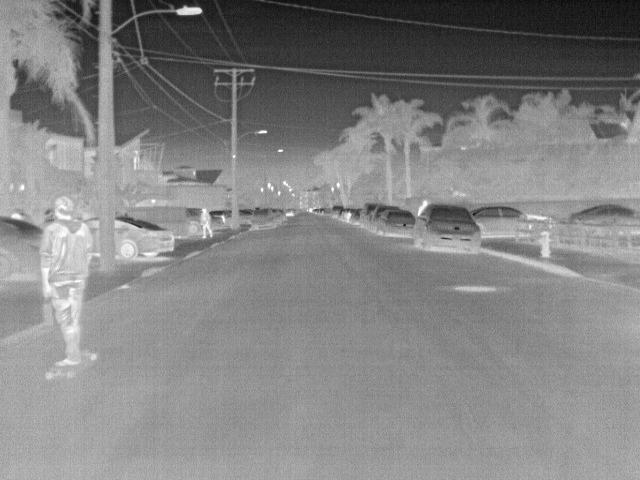car: (414, 204, 482, 254), (2, 215, 44, 287), (116, 214, 180, 260), (470, 207, 526, 238), (567, 204, 636, 224), (382, 210, 415, 234), (367, 206, 395, 232), (249, 207, 277, 232), (83, 218, 101, 254), (210, 209, 231, 228), (349, 207, 365, 226), (239, 209, 254, 226), (331, 204, 346, 220), (283, 206, 295, 218)
person: (38, 197, 97, 367), (197, 205, 216, 239), (416, 200, 428, 218)
